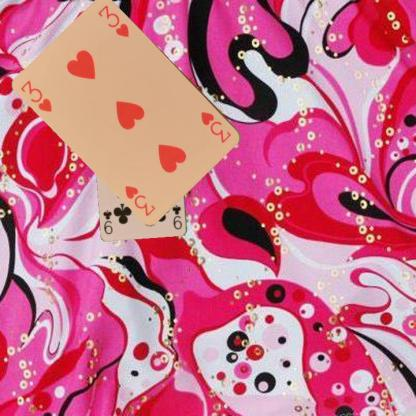3h: (198, 108, 233, 144), (18, 78, 54, 113)
9c: (170, 202, 183, 231)
